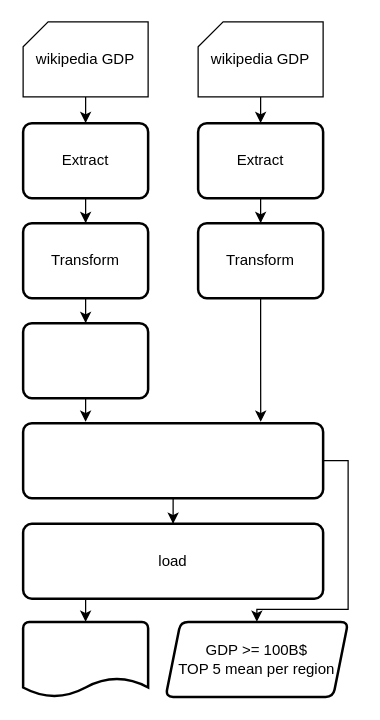
This 380x720 diagram has some shape labels left out. The centre of each missing label's shape, as x and y in pixels:
"json" goes at (x=85, y=659).
"merge" goes at (x=172, y=460).
"Transform for GDPdata" goes at (x=85, y=360).
